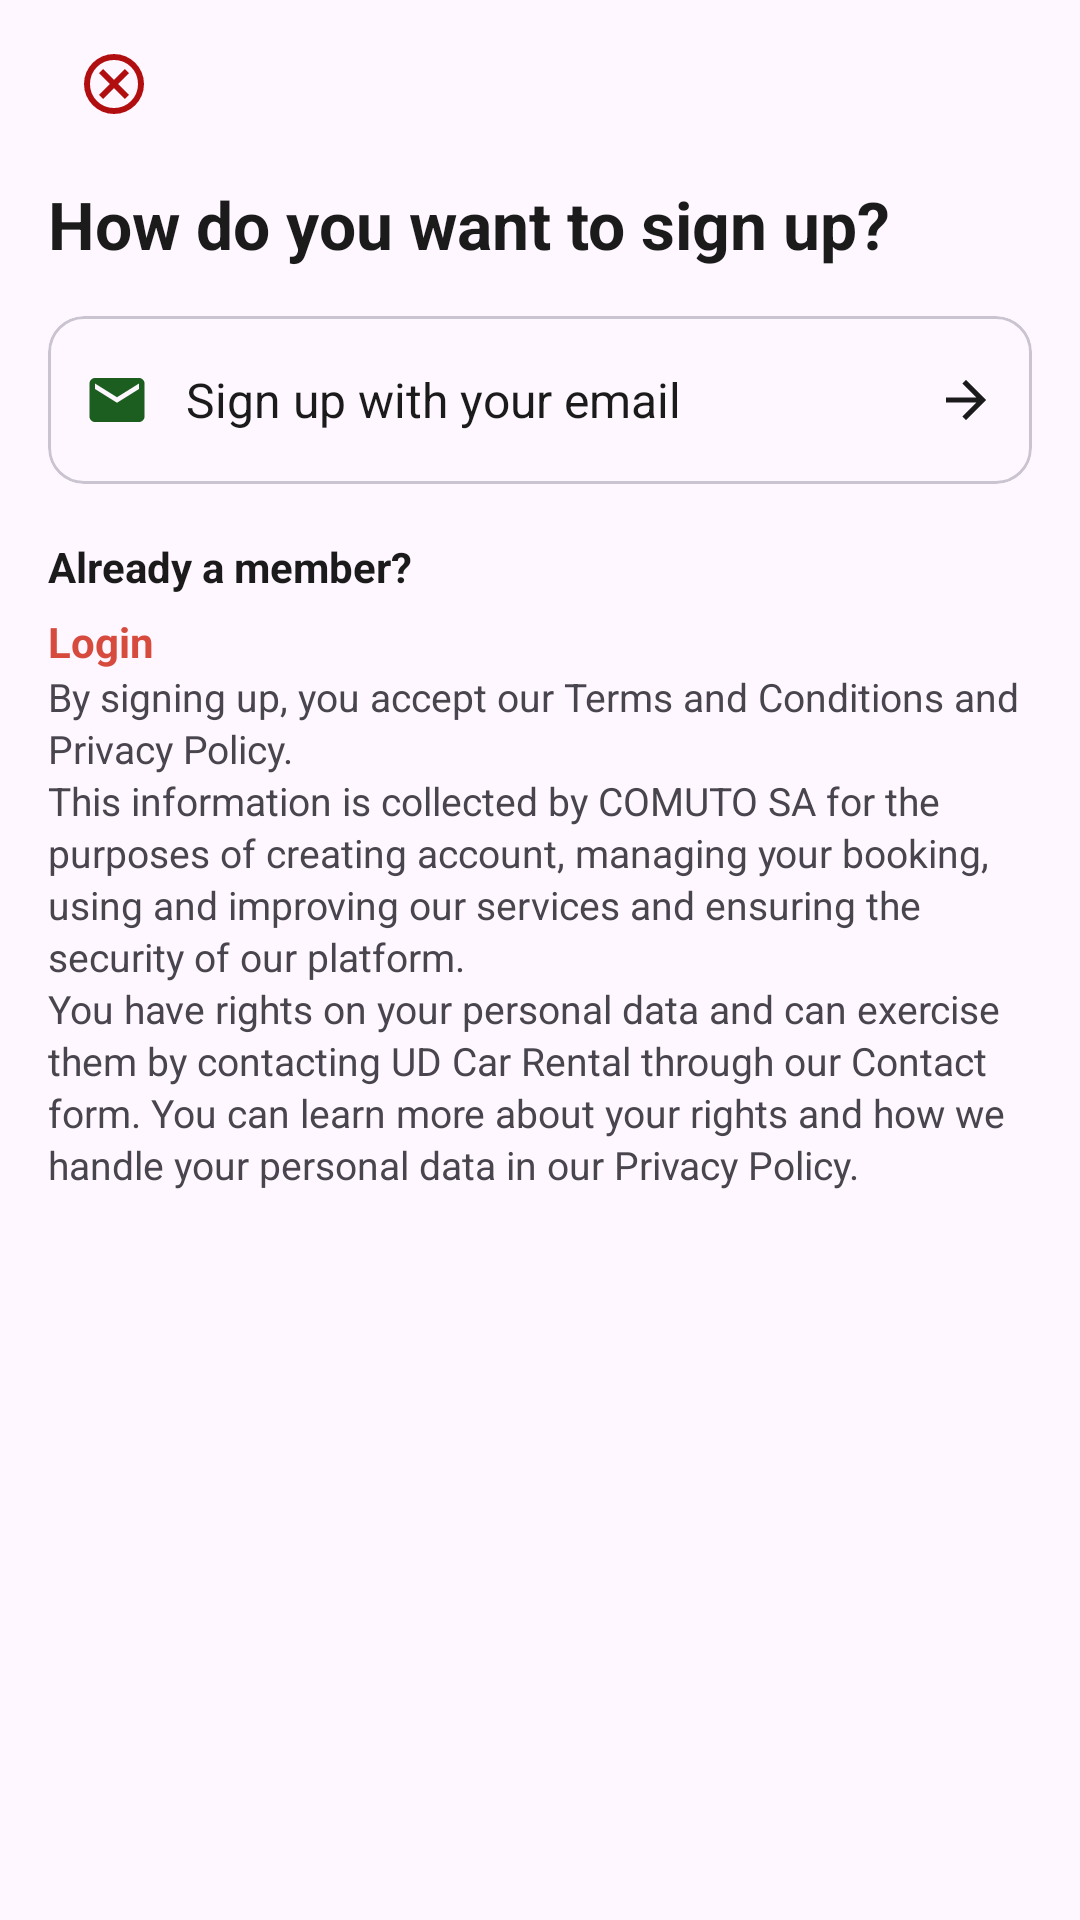

Screen size 1080×1920. Icon name, then its center in pixels as [x,y]:
arrow right: [966,400]
cancel: [114,84]
